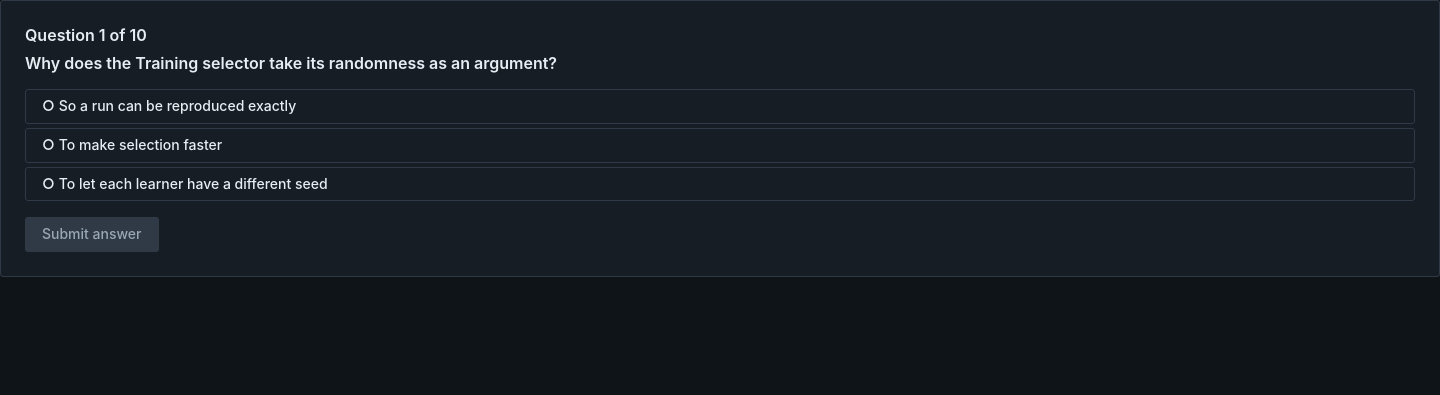
Test: the synthetic preview bank › drives a real ten-question run end to end
Expected: the heading "Question 1 of 10" is shown, [25,25,147,45]
Click the button "○So a run can be reproduced exactly" at (178, 106), box [25,89,1415,124]
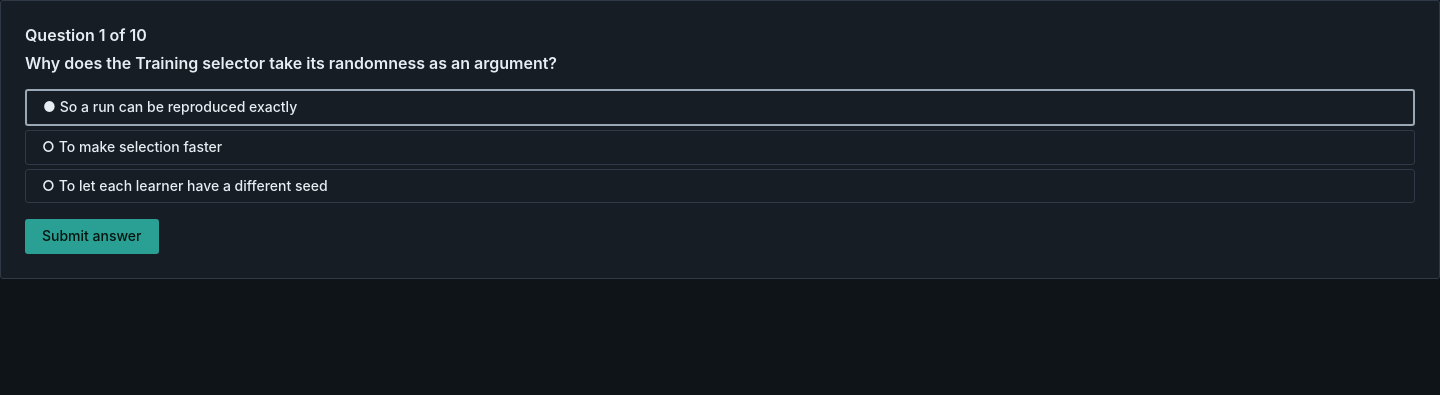
Click the button "Submit answer" at (92, 237), box [25,219,158,254]
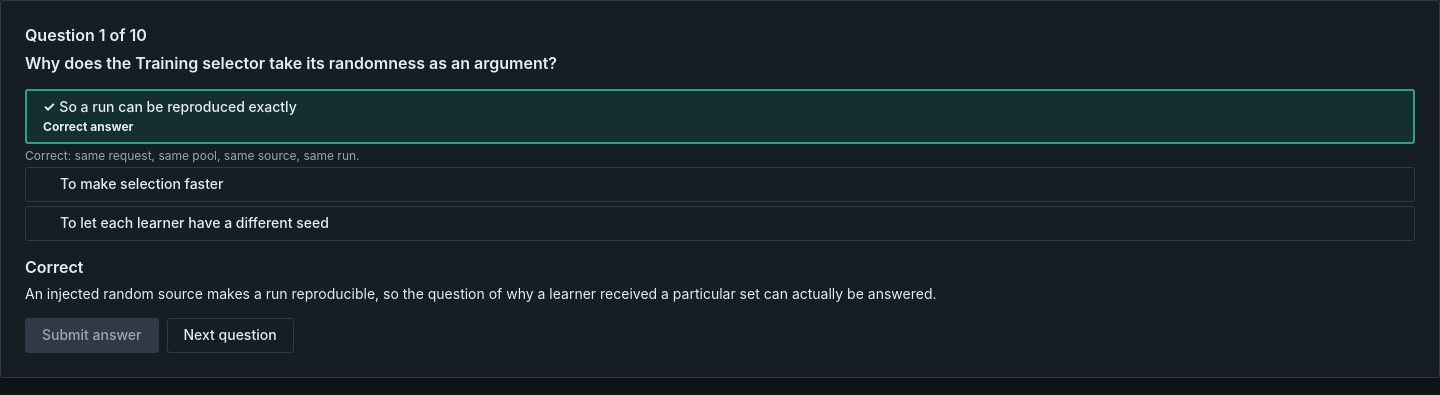
Expected: the text "Correct" is shown, [25,257,84,277]
